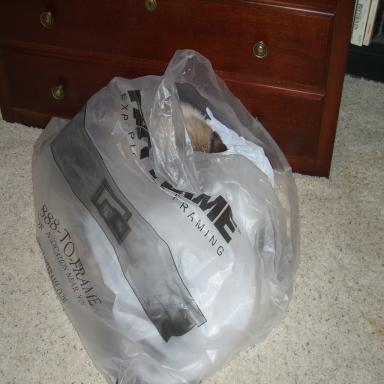plasticbag: (32, 49, 300, 383)
